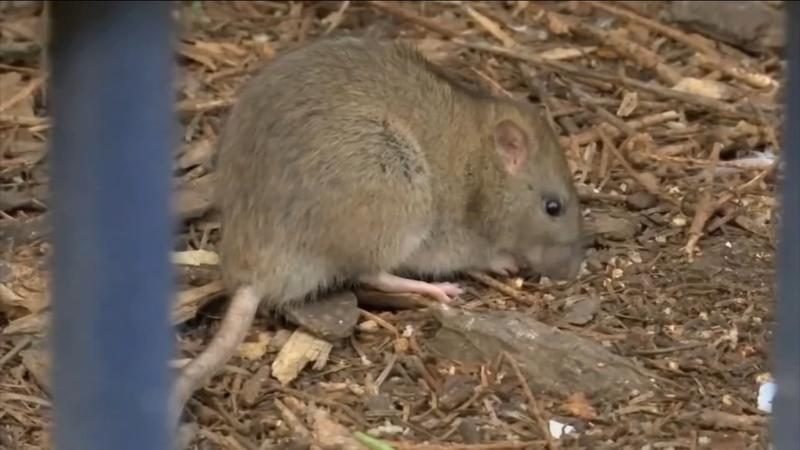rat: (170, 33, 582, 424)
